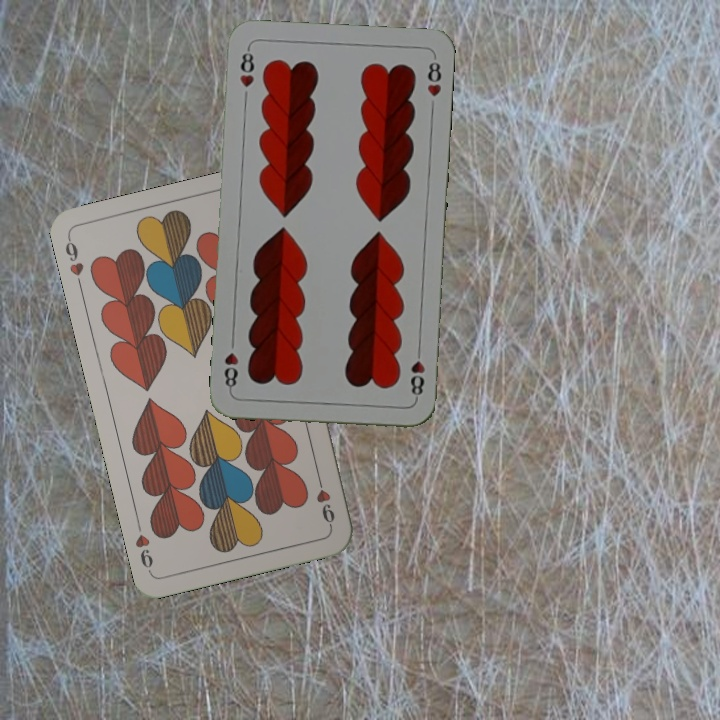H8: (406, 343, 427, 402), (236, 44, 257, 90)
H9: (312, 471, 337, 530), (61, 233, 86, 292)
